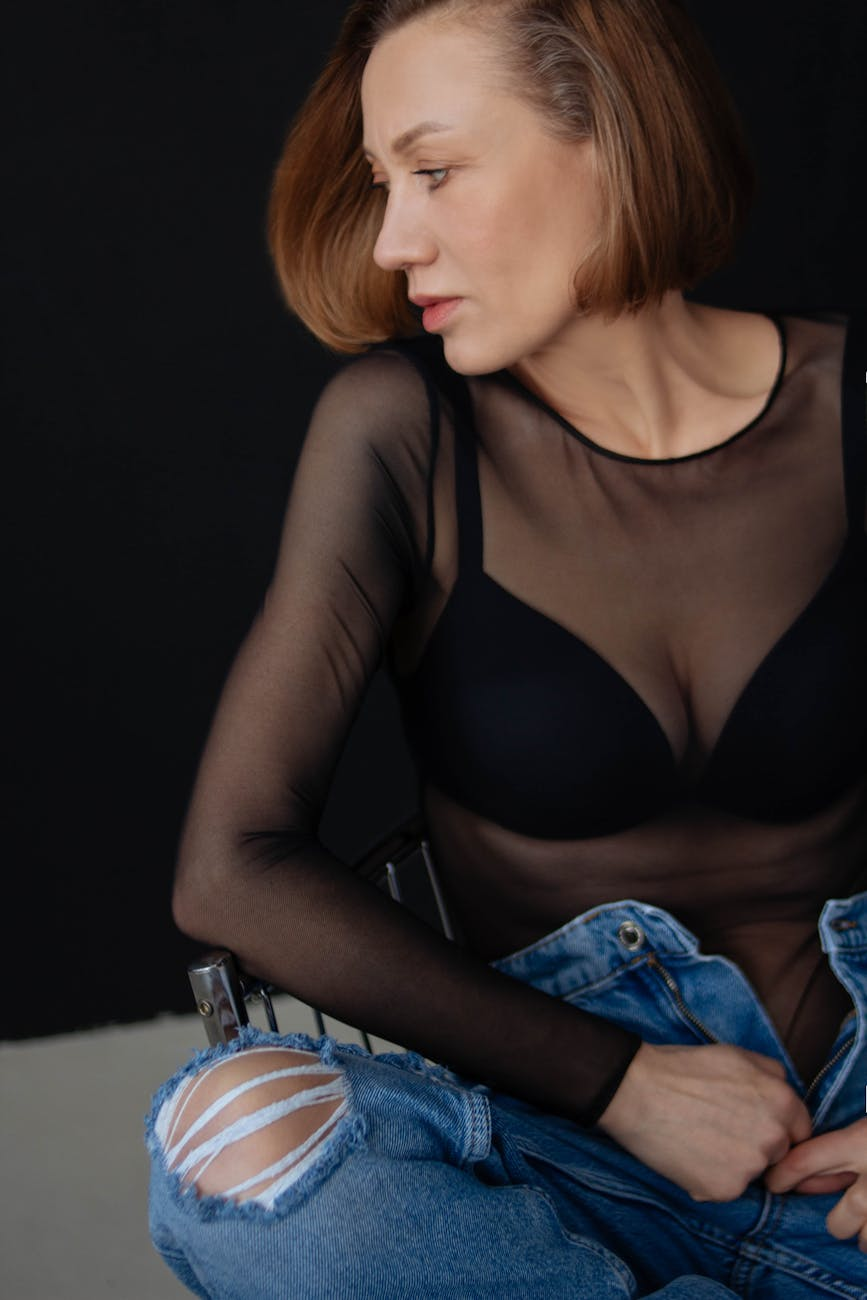ripped_jeans: (128, 1035, 867, 1300)
transparent_top: (308, 354, 857, 888)
